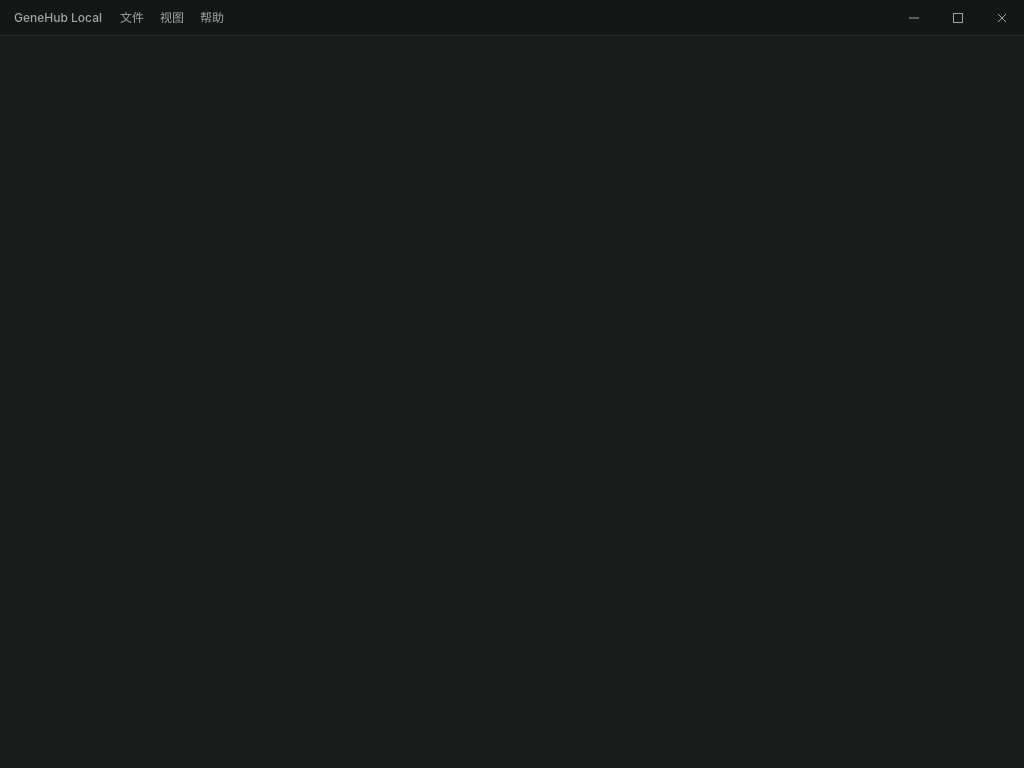
Test: the strip along the top › switches the palette from the 视图 menu
The image size is (1024, 768).
Click the menu item "视图".
click(172, 18)  # box [152,6,192,30]
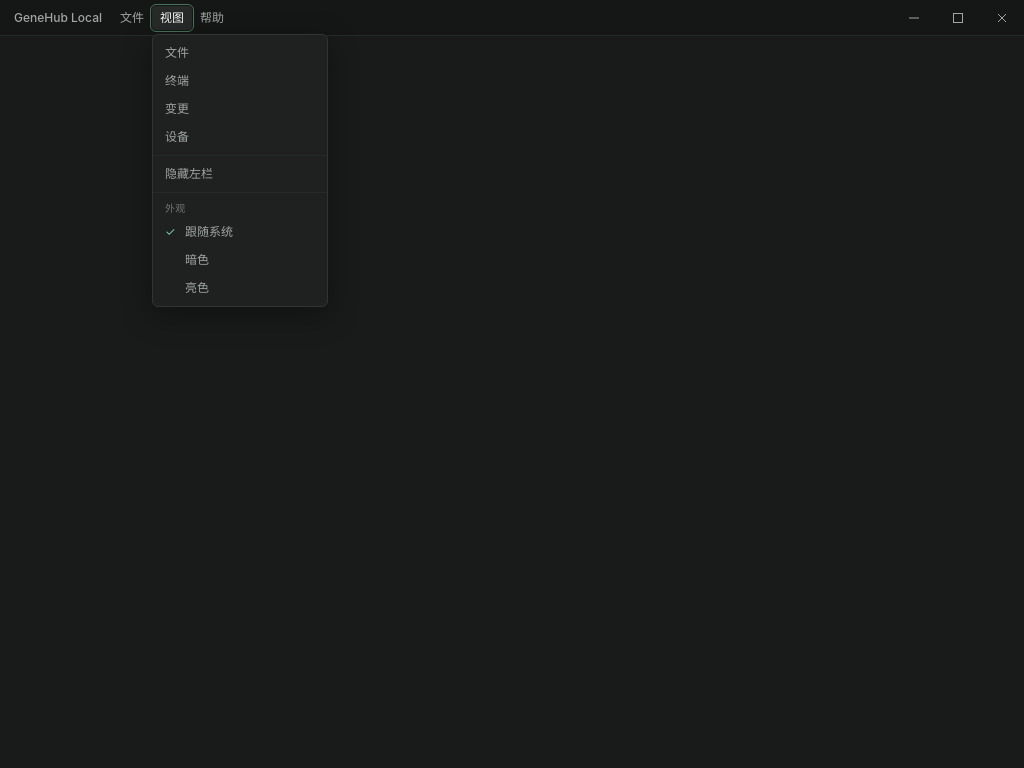
Click the menu item "亮色".
click(240, 288)  # box [153,274,327,302]
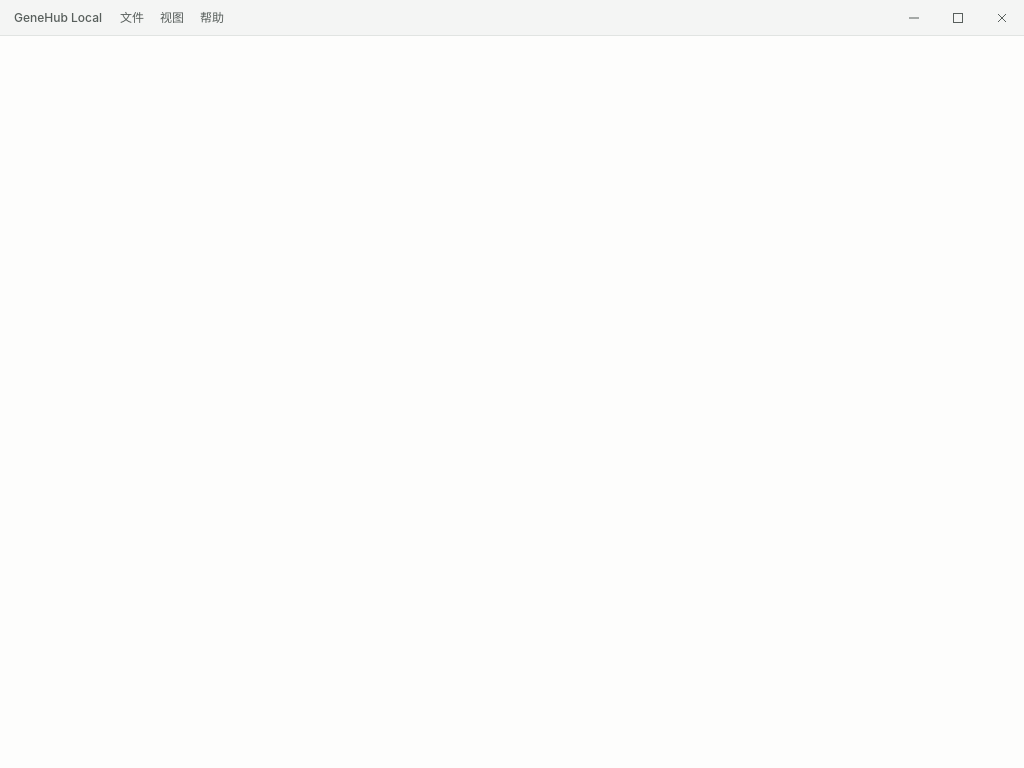
Result: the menu is gone
